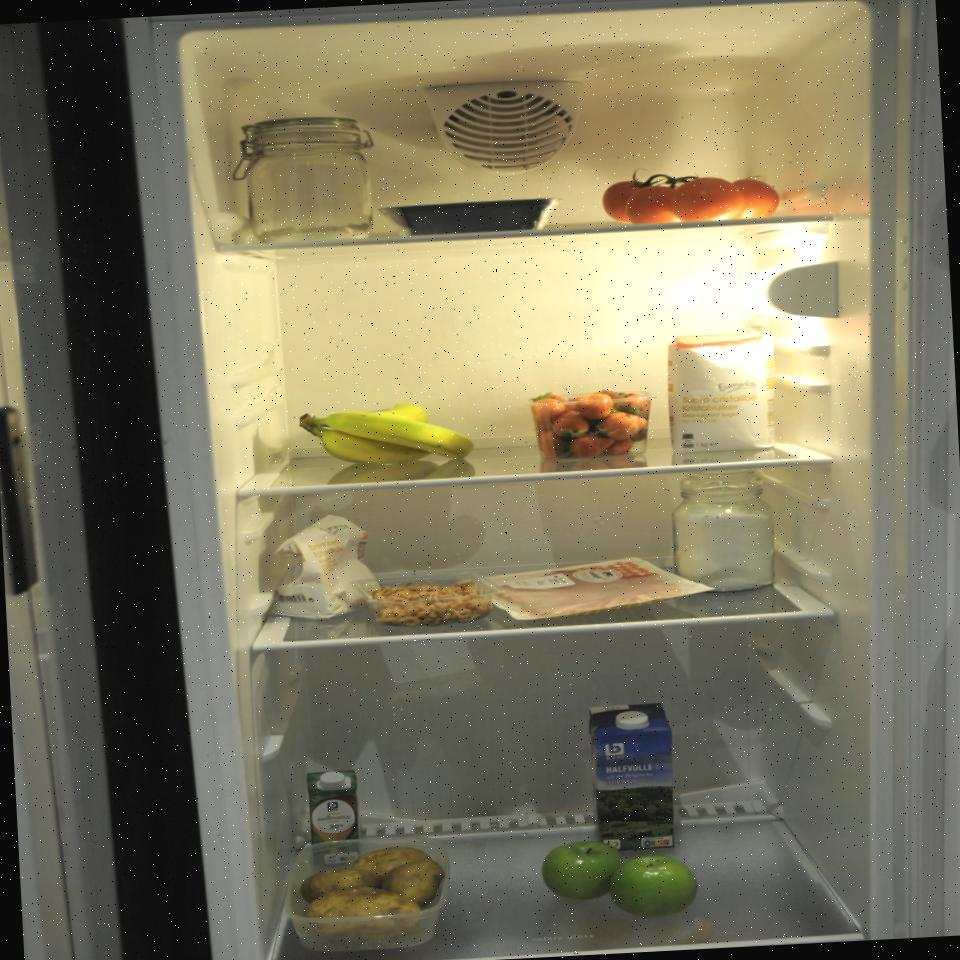Leche: (586, 700, 688, 854)
Manzana: (542, 827, 715, 926)
Plátano: (295, 398, 483, 468)
Tomate: (588, 156, 789, 231)
strawberries: (522, 382, 660, 466)
